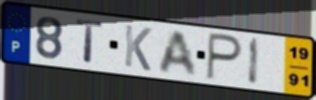8: (34, 15, 65, 61)
A: (156, 29, 199, 78)
I: (247, 36, 262, 88)
K: (122, 23, 154, 74)
P: (204, 31, 245, 84)
T: (74, 17, 106, 66)
